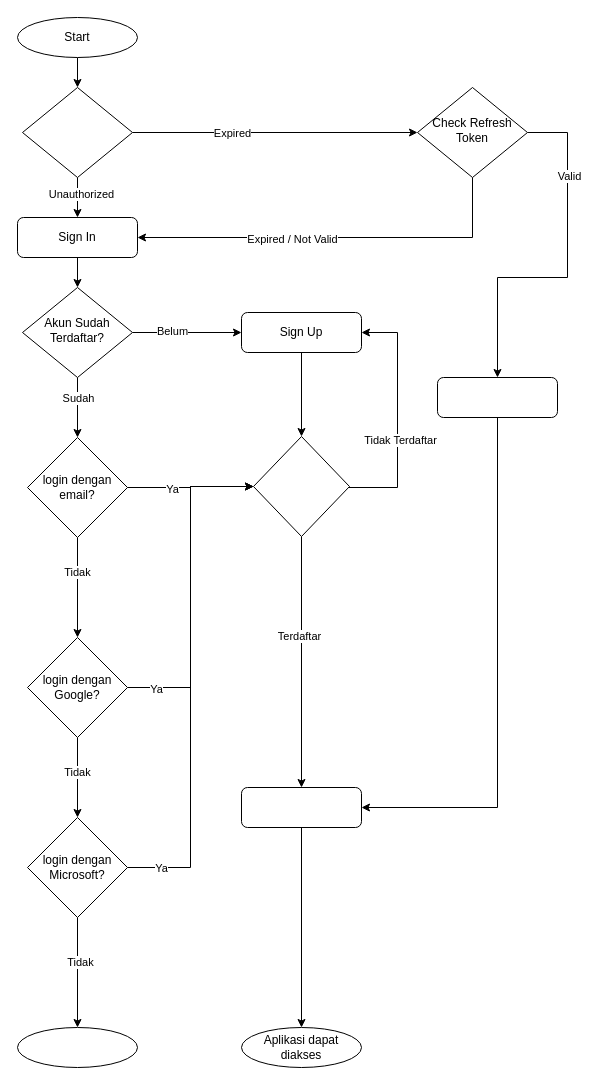
This 598x1085 diagram has some shape labels left out. The centre of each missing label's shape, as x and y in pixels:
Check AccessToken: pixel 77 132
End: pixel 77 1047
Generate Access Token by Refresh Token: pixel 497 397
Menerima Access Token: pixel 301 807
Pengecekan Akun: pixel 301 486
